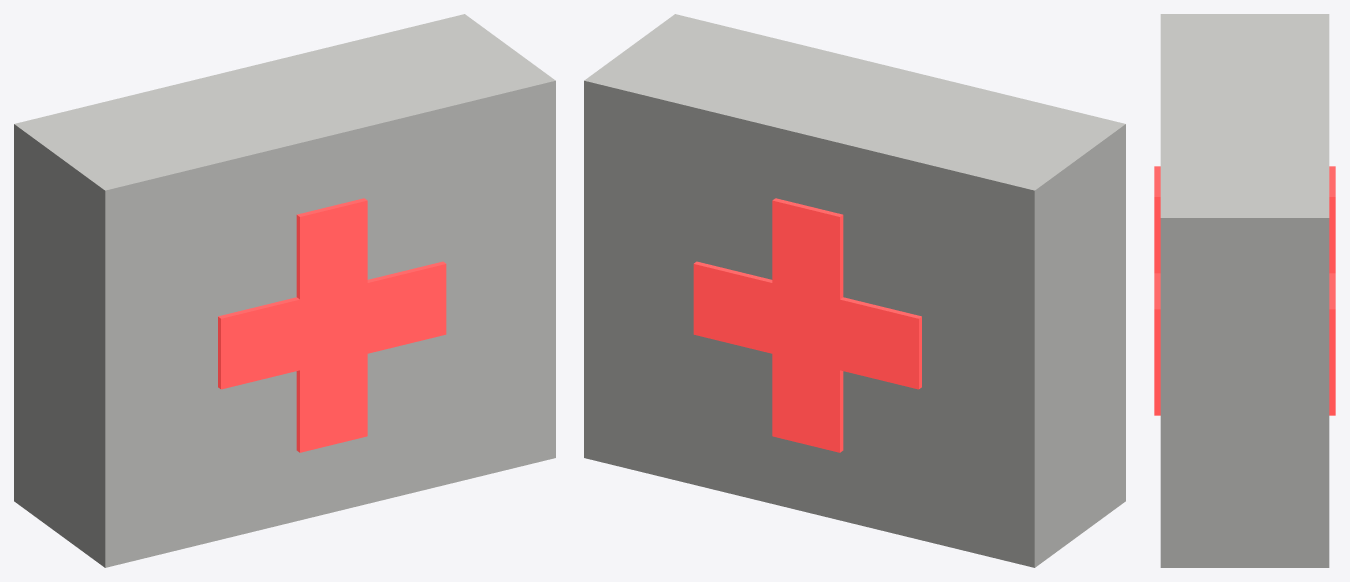
Rendered from prop_pickup_health.glb.
3 views of the same model, side by side, from view 1: azimuth 30°, elevation 25°; view 2: azimuth 150°, elevation 25°; view 3: azimuth 270°, elevation 25° (orthographic). The views are drawn at different scales.
Visible parts, largest first — view 1: prop_pickup_health__mesh; view 2: prop_pickup_health__mesh; view 3: prop_pickup_health__mesh.
Part boxes in pixels (<box>): prop_pickup_health__mesh: <box>14,14,555,567</box>; prop_pickup_health__mesh: <box>584,14,1125,567</box>; prop_pickup_health__mesh: <box>1154,14,1335,567</box>.
Size of the model in its own units: 0.4 by 0.32 by 0.15.
